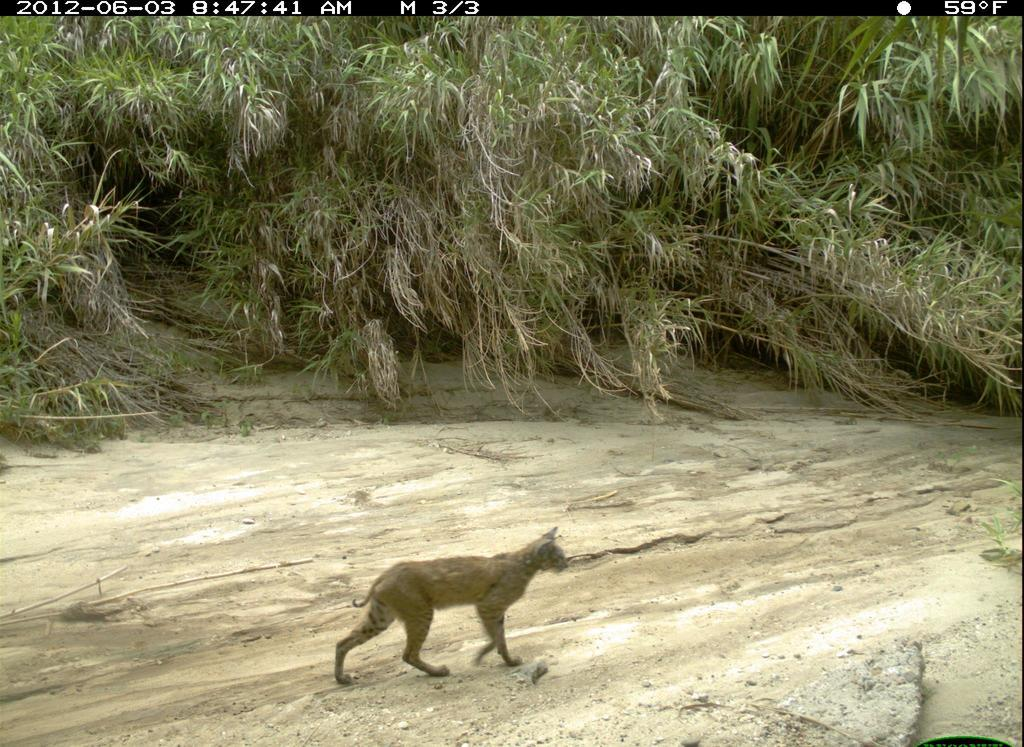bobcat: (322, 520, 603, 694)
